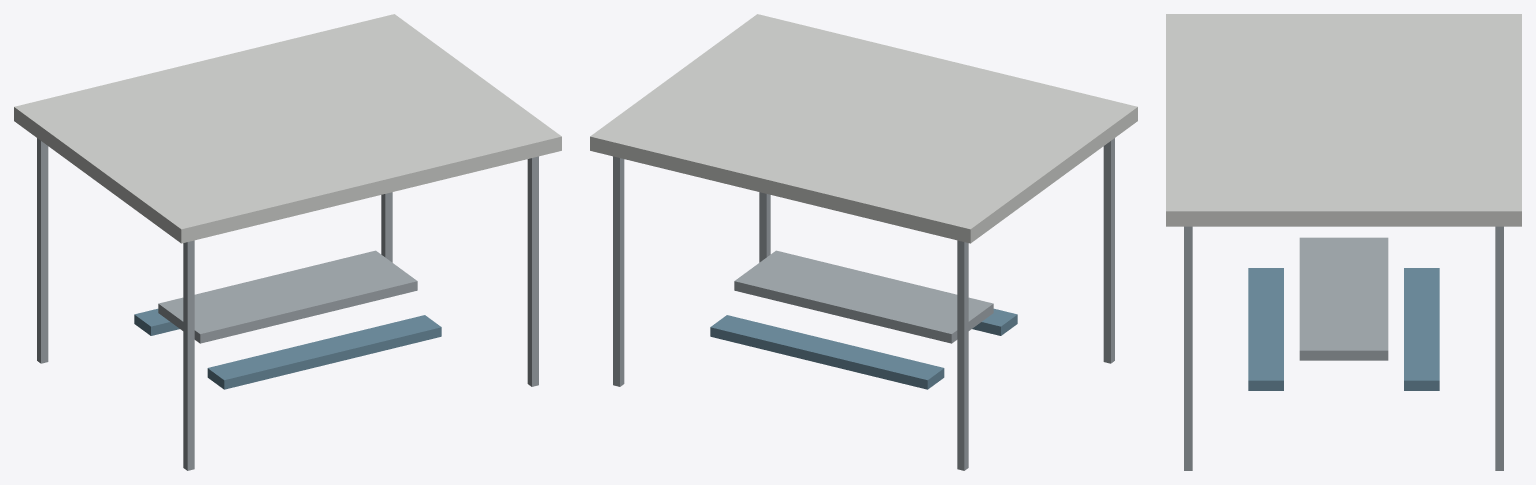
Rendered from long-haul-trucking-and-truck-stop-picnic-shelter-60b583f2__13983.glb.
The picture shows the model from 3 angles, left to right: view 1: azimuth 30°, elevation 25°; view 2: azimuth 150°, elevation 25°; view 3: azimuth 270°, elevation 25°; orthographic projection. The views are drawn at different scales.
Parts seen in each view (by area): view 1: picnic-shelter; view 2: picnic-shelter; view 3: picnic-shelter.
Part boxes in pixels (box(x1,y1,x2,y2)): picnic-shelter: box(14, 14, 561, 470); picnic-shelter: box(590, 14, 1137, 470); picnic-shelter: box(1166, 14, 1521, 470).
Size of the model in its own units: 4.2 by 2.65 by 3.2.
